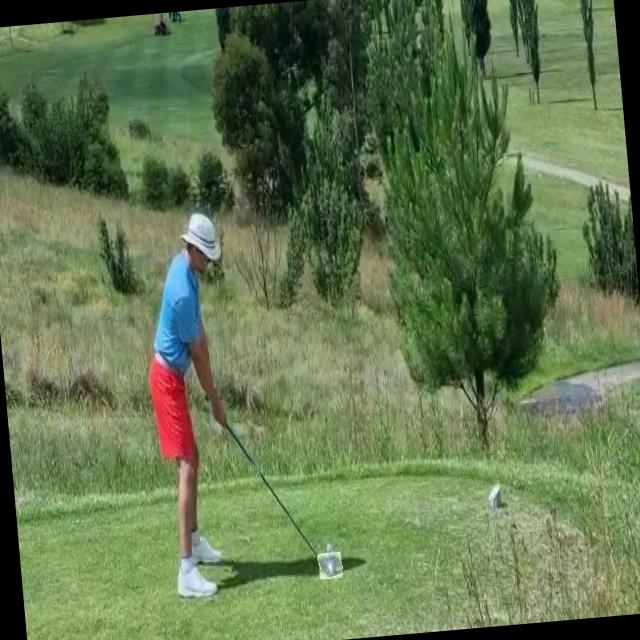club head: (318, 551, 342, 579)
